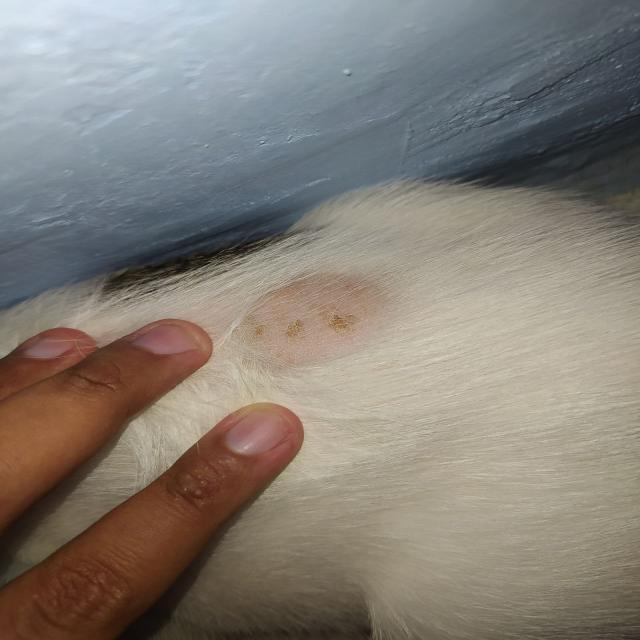hac lao: (194, 255, 428, 369)
